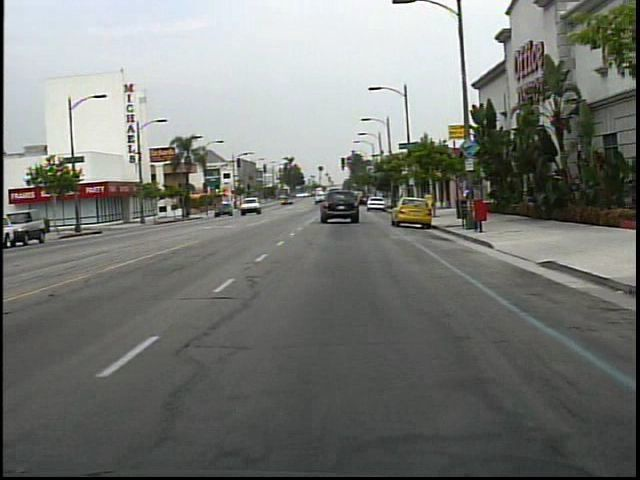person: (462, 184, 483, 220)
